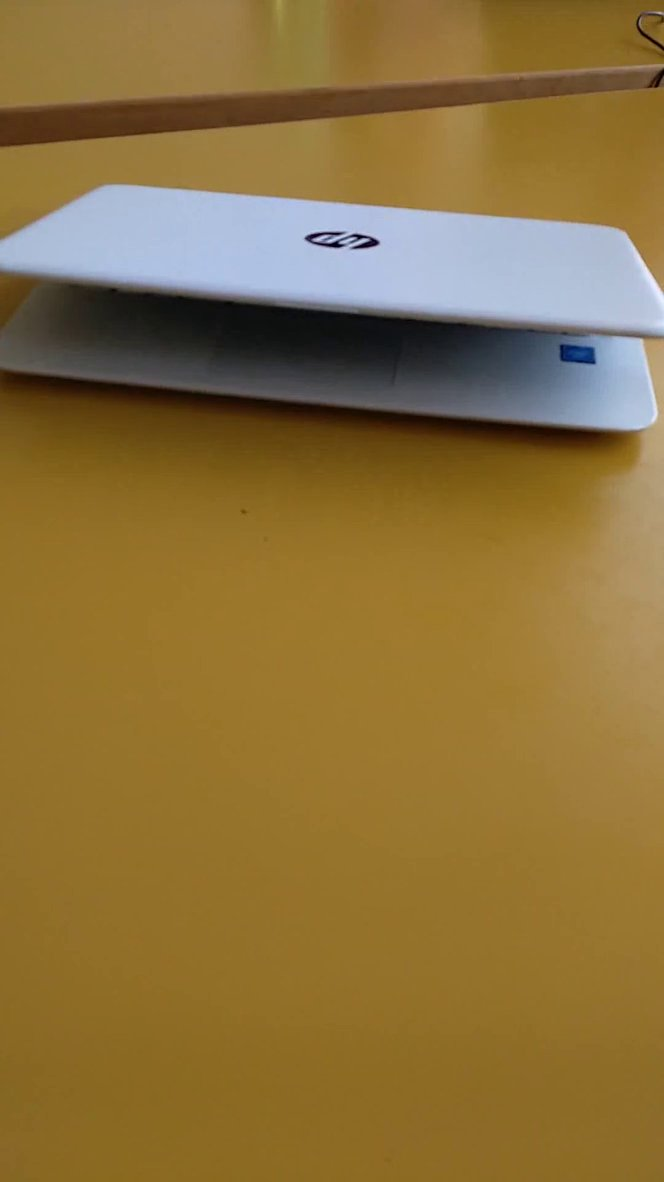laptop: (1, 161, 664, 474)
